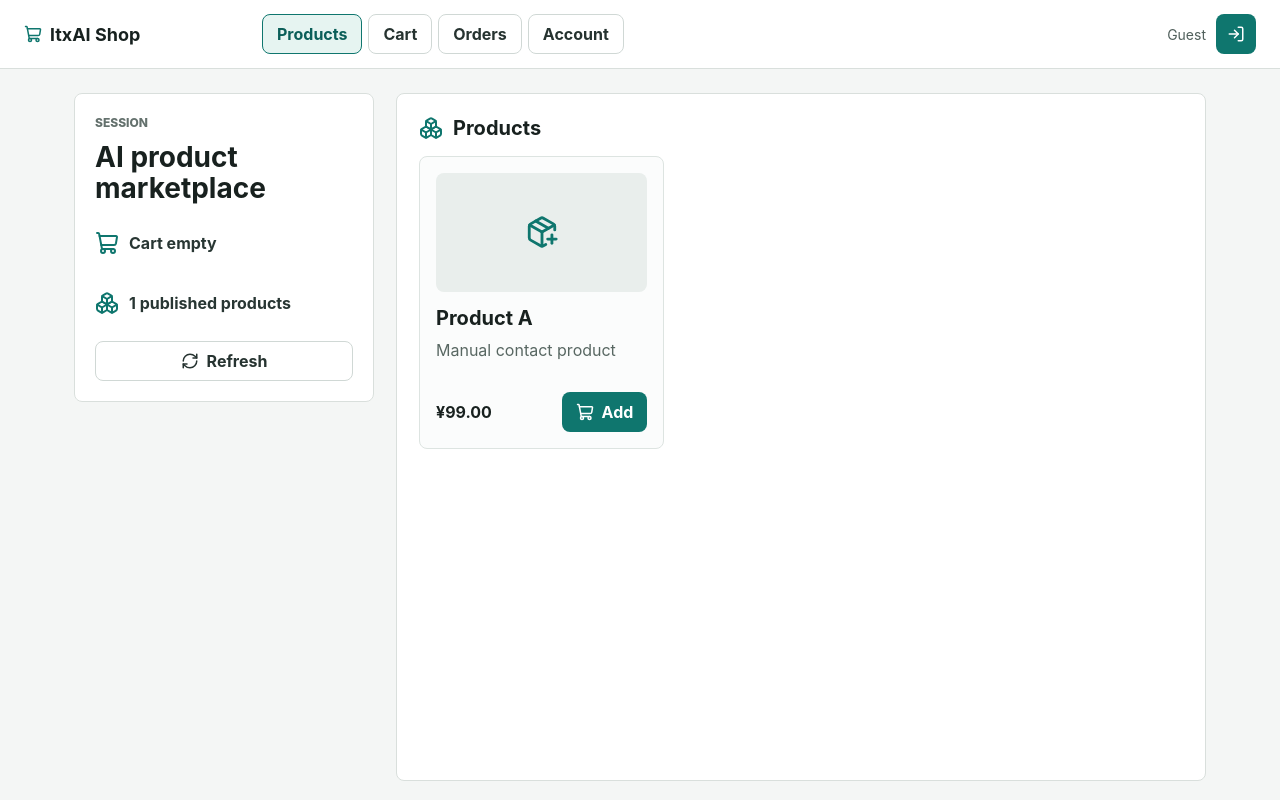
Test: App › opens the account view
The image size is (1280, 800).
Expected: the heading "Product A" is shown, [436,306,533,330]
Click the button "Account". click: (576, 34)
box: [528,14,624,54]
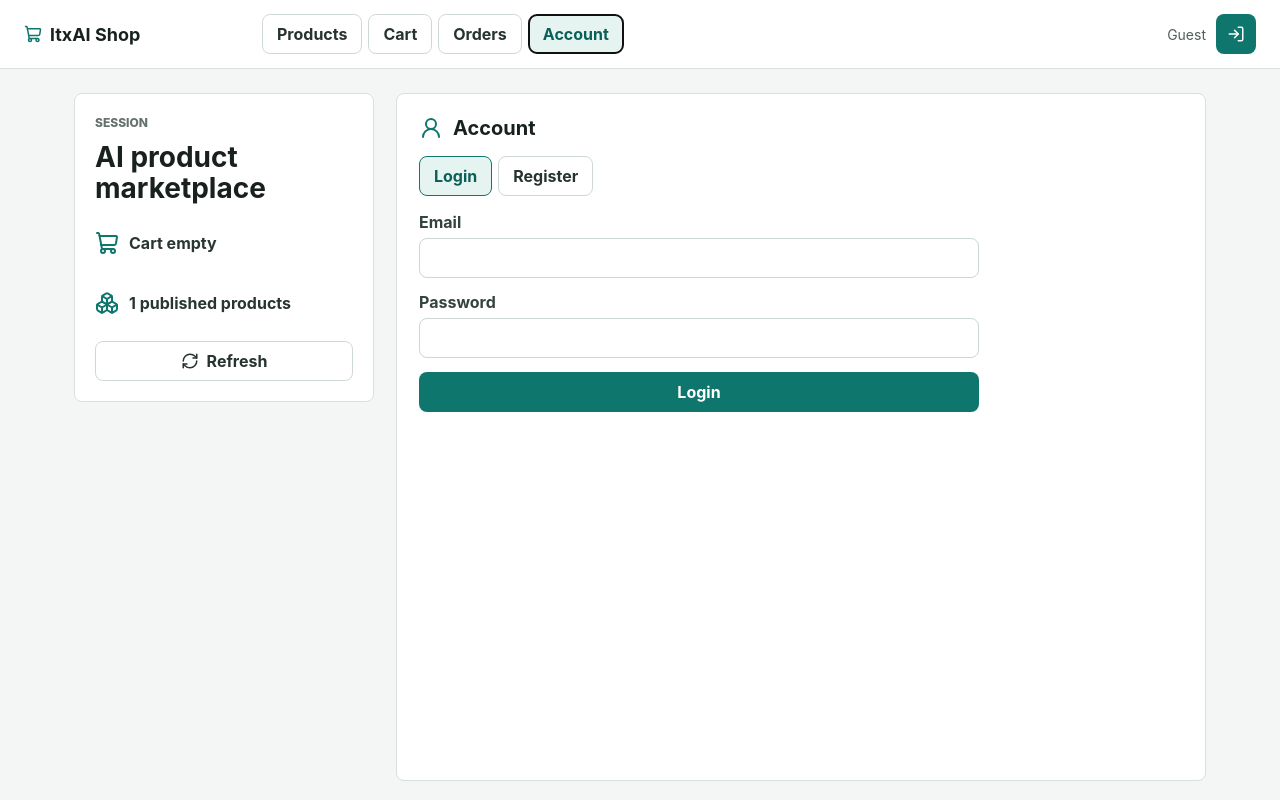
Expected: the 1st button "Login" is shown, [419,156,492,196]
Expected: the button "Register" is shown, [498,156,593,196]
